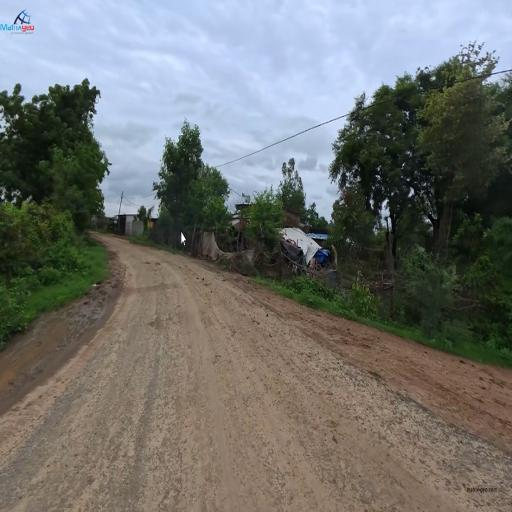ravelling: (105, 379, 383, 487)
